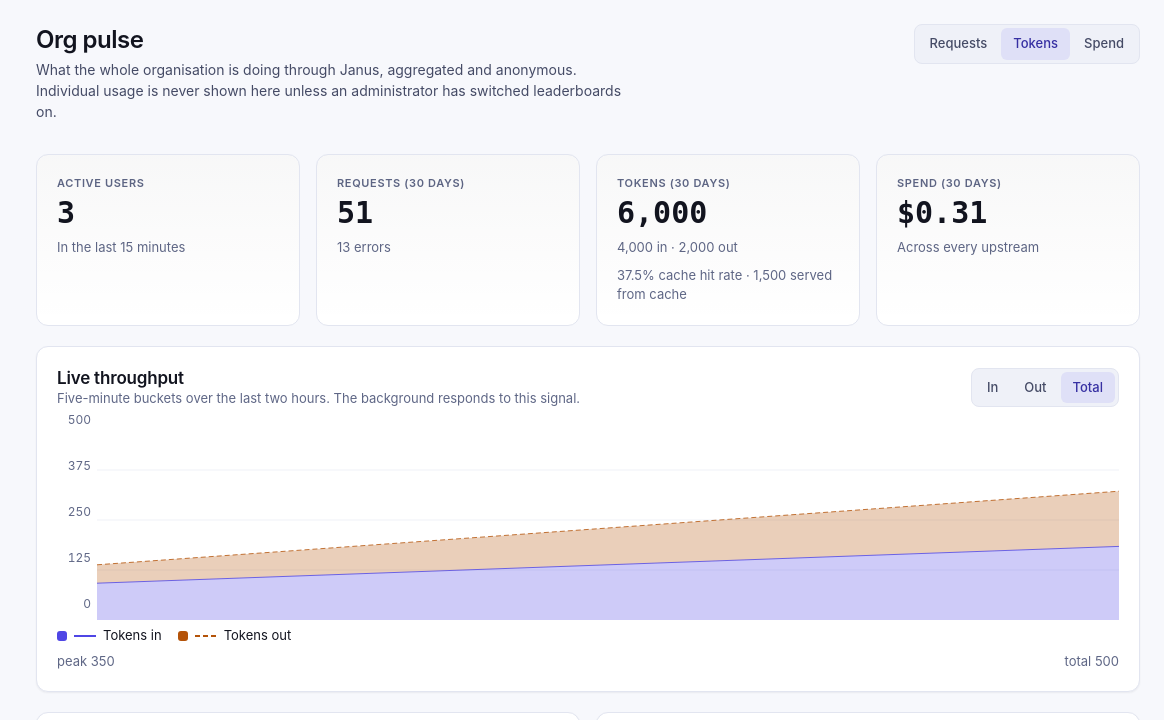
live throughput — token direction picker › plots only tokens-in after clicking In, with a footer of that direction alone
The image size is (1164, 720).
Expected: the heading "Live throughput" is shown, [57,368,184,388]
Step 1. Click the button "In" → (993, 387), box [975,372,1010,403]
(page scrolled)
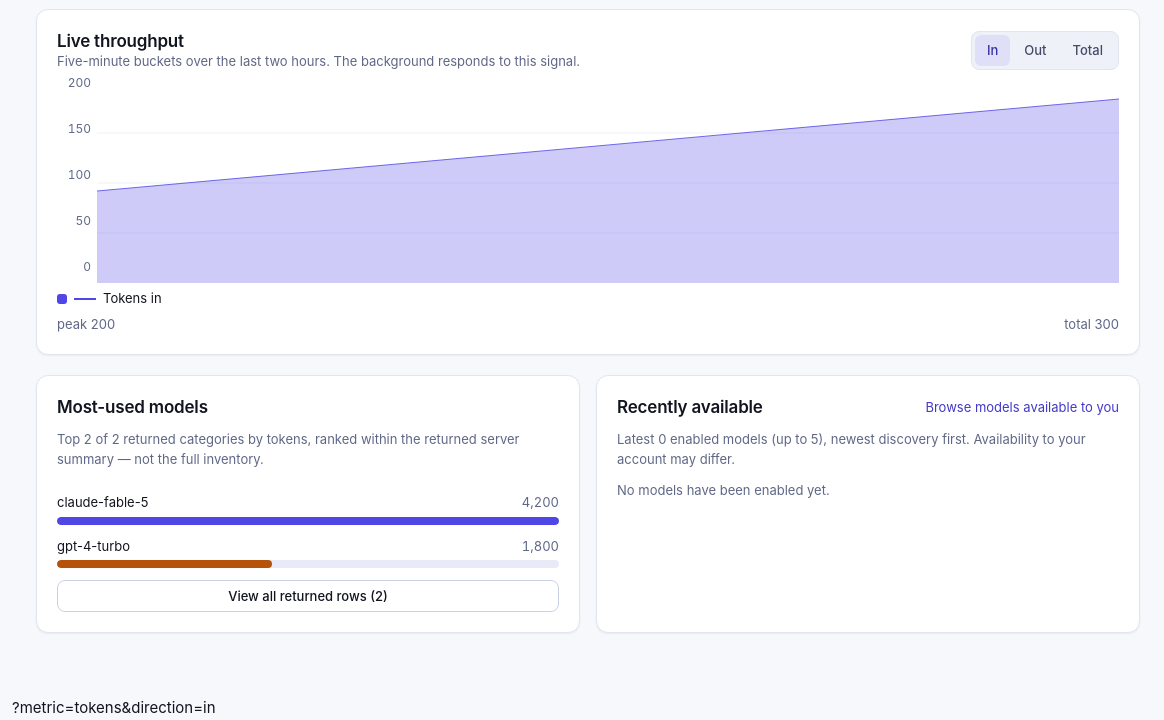
Now the text "peak 200" is shown, box [57,315,115,334]
Now the text "total 300" is shown, box [1064,315,1119,334]
Now the text with test id "location-search" shows "direction=in", box [12,698,216,717]
